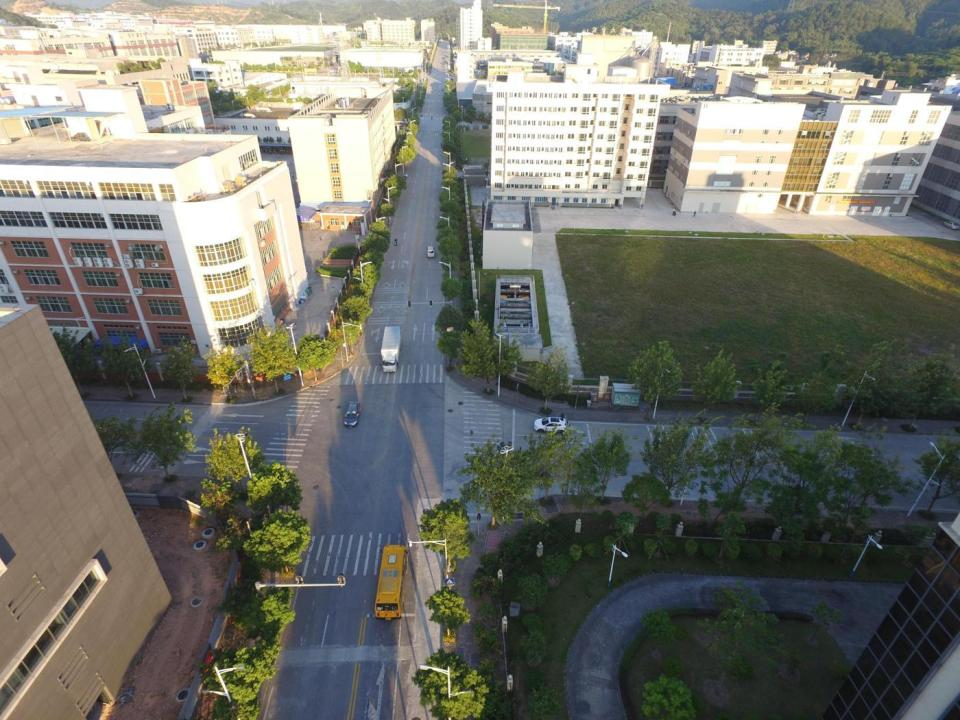bus: (374, 542, 408, 622)
car: (534, 416, 571, 436), (344, 400, 360, 428), (941, 220, 960, 231)
truck: (380, 326, 401, 372)
van: (425, 245, 436, 258)
